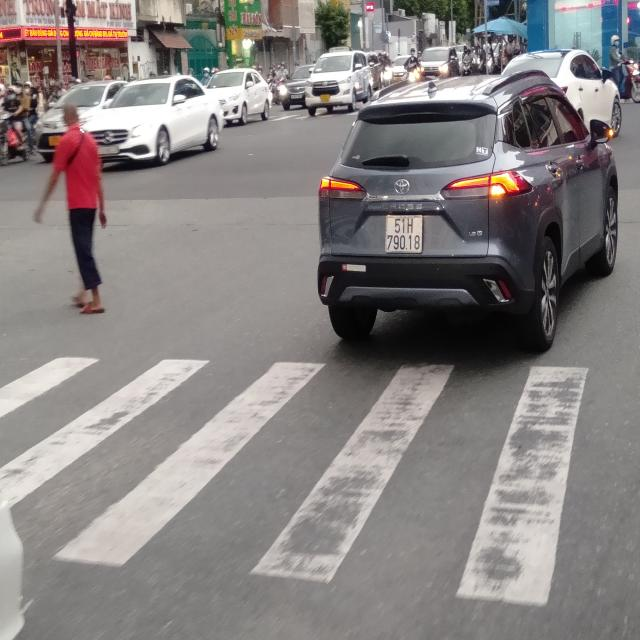bien_trang: (386, 210, 425, 257)
